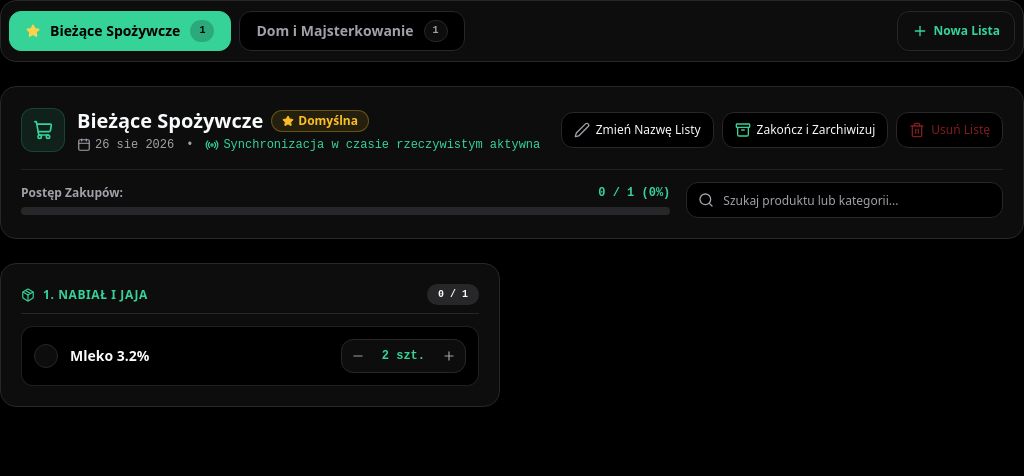
Test: DesktopActiveListView - Desktop Segmented Tabs & Multi-List Management › Flow 02: clicking segmented tab switches list and displays target items
Check: the text "Mleko 3.2%" is shown, box [70,346,149,366]
Click the button "Dom i Majsterkowanie 1" at (352, 31), box [239,11,465,51]
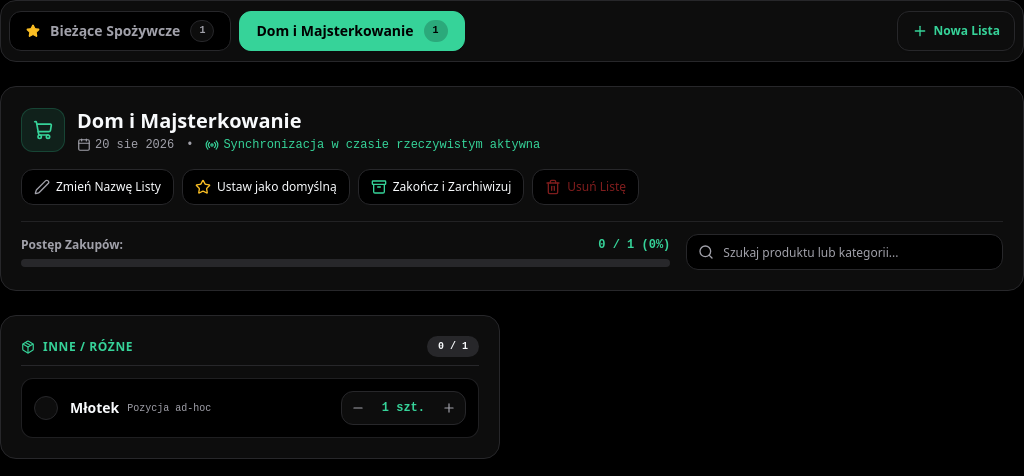
Check: the text "Młotek" is shown, box [70,398,119,418]
